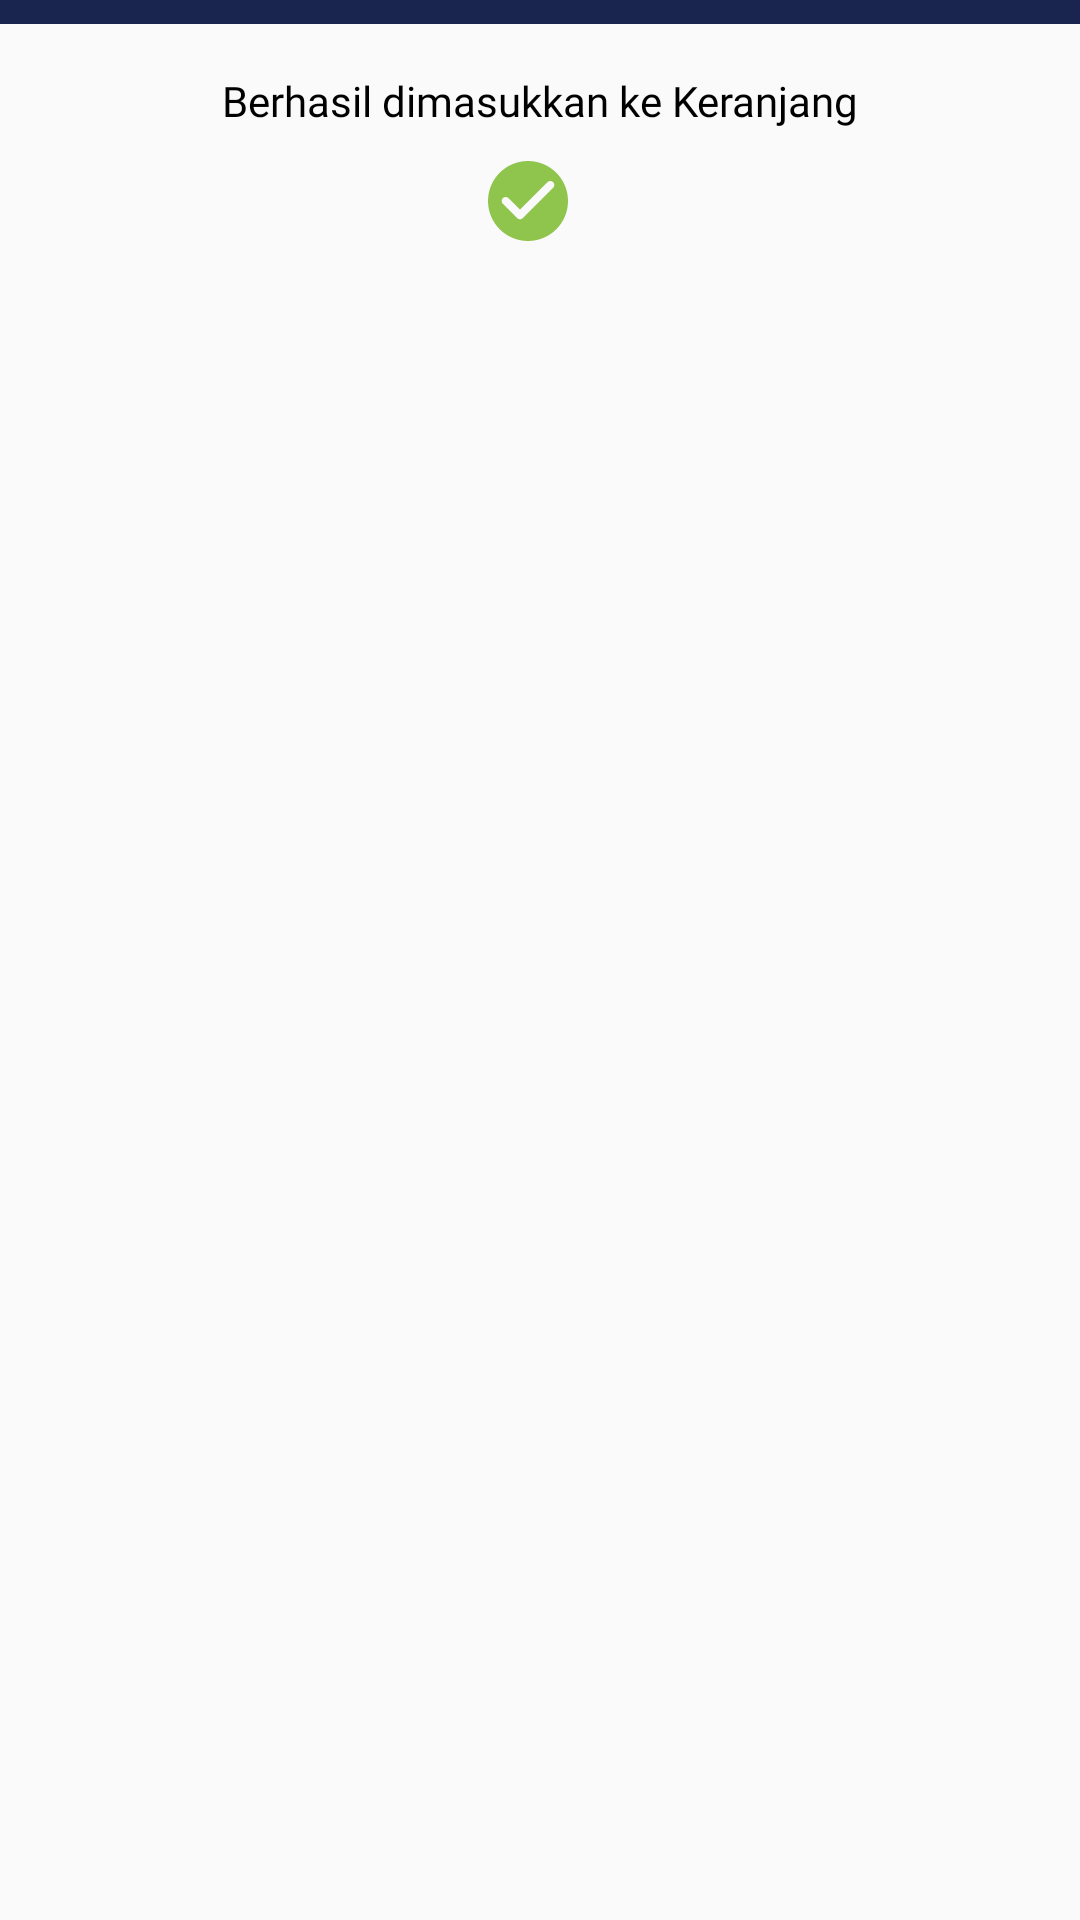

Screen size 1080 x 1920. Icon name, then its center in pixels as (x,y):
check circle: (528,201)
